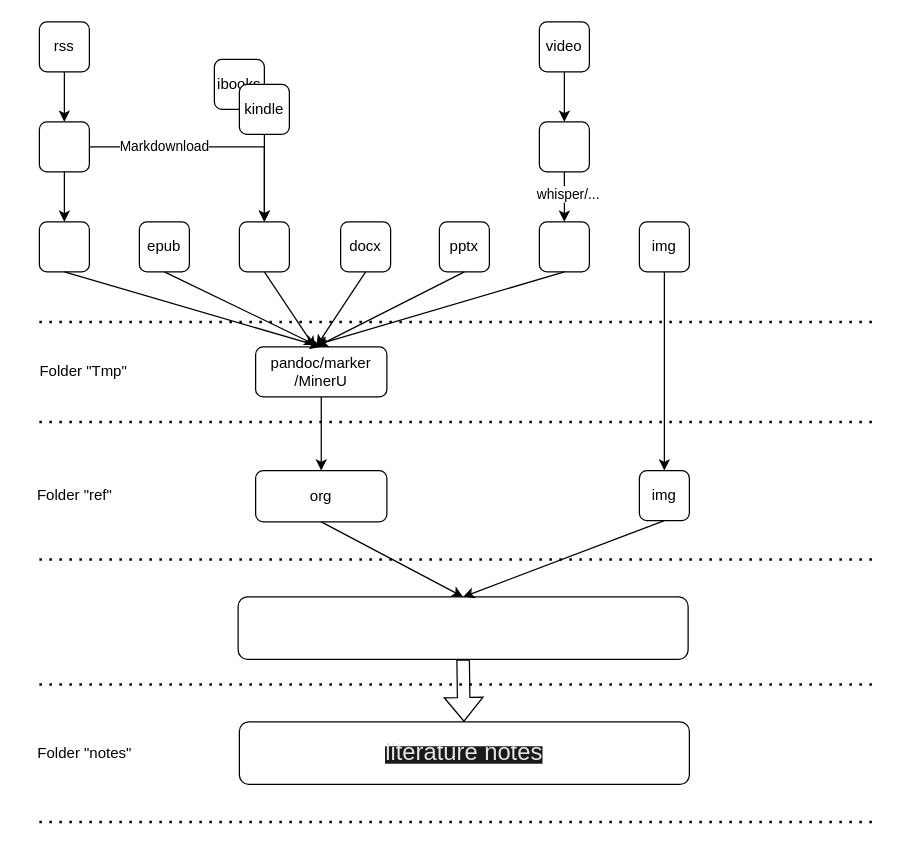
The diagram is 900 pixels wide and 846 high, and some of its shapes have lost their labels. The shapes that lost their labels are listed below. From the top down, each one's centre as x and y in pixels, then its label:
At (x=63, y=146): "web page".
At (x=563, y=146): "audio".
At (x=63, y=246): "pdf".
At (x=263, y=246): "mark down".
At (x=563, y=246): "txt".
At (x=462, y=627): "org-ref-zettle-mode".
